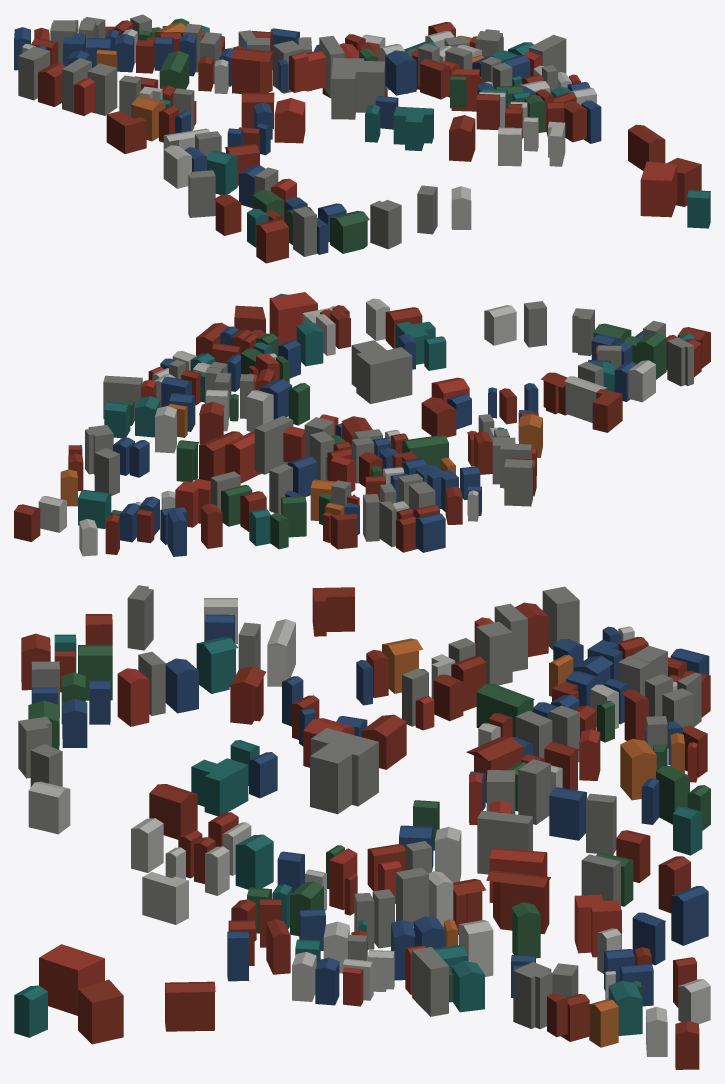
File: near-17-109442-59485.7f970f14.glb
3 views of the same model, one above another, from view 1: azimuth 30°, elevation 25°; view 2: azimuth 150°, elevation 25°; view 3: azimuth 270°, elevation 25° (orthographic). The views are drawn at different scales.
Size of the model in its own units: 308 by 90.91 by 300.
